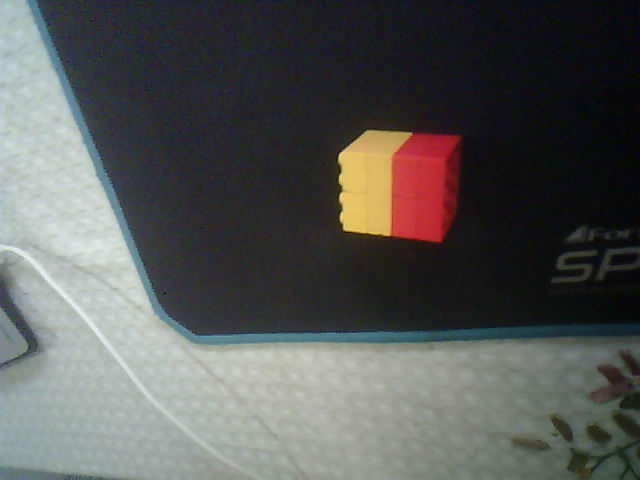lego: (335, 128, 462, 244)
